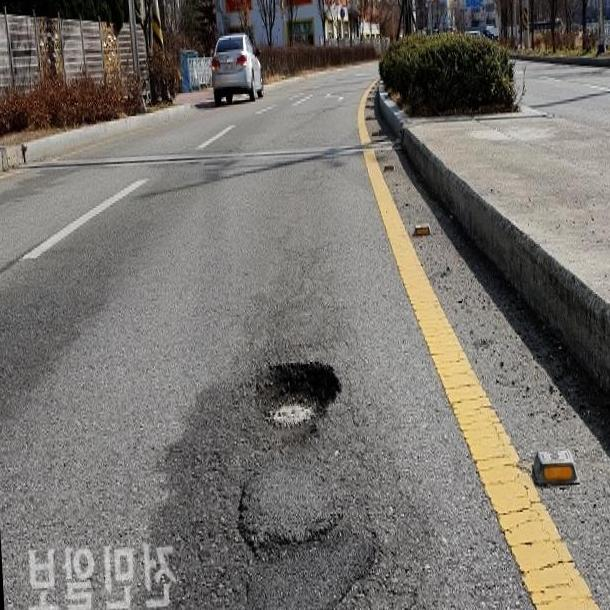pothole: (241, 328, 344, 449)
